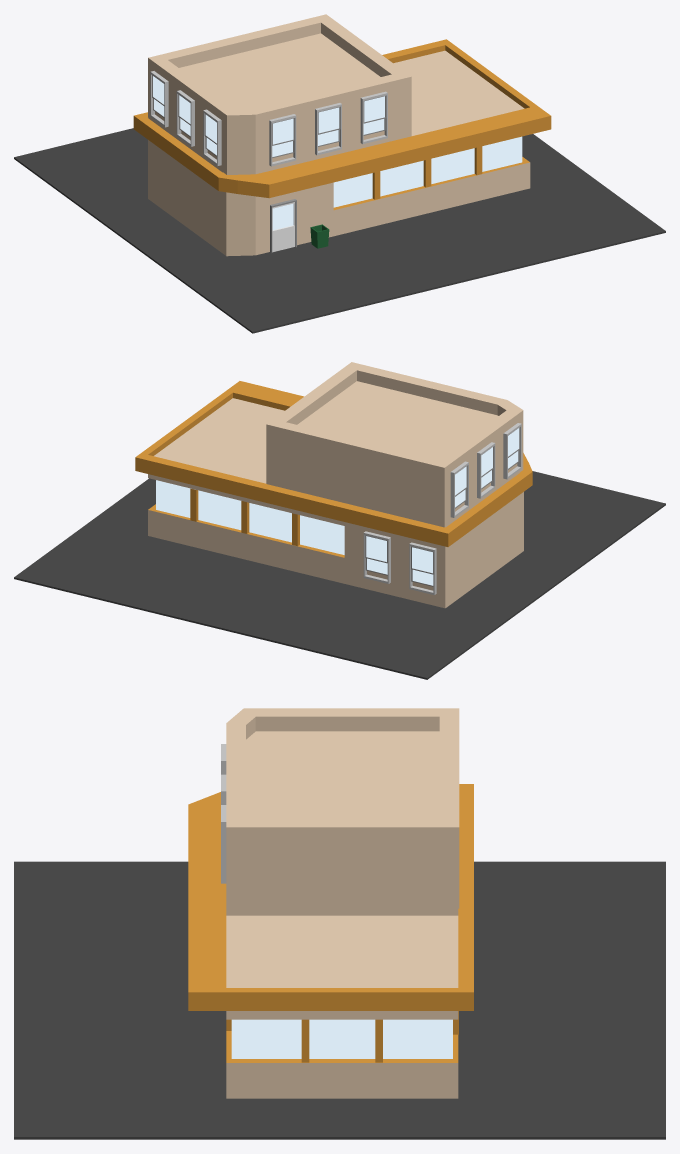
File: gedung5.glb
The picture shows the model from 3 angles, top to bottom: view 1: azimuth 30°, elevation 25°; view 2: azimuth 150°, elevation 25°; view 3: azimuth 270°, elevation 25°; orthographic projection. The views are drawn at different scales.
Parts seen in each view (by area): view 1: Plane.006, Plane, Cube, Plane.001, Plane.002, Plane.003, Plane.005; view 2: Plane.006, Cube, Plane, Plane.001, Plane.003, Plane.004; view 3: Plane.006, Cube, Plane, Plane.001, Plane.002.
Part boxes in pixels (x1,y1,x2,y2): Plane.006: [14, 128, 665, 333]; Plane: [148, 50, 530, 256]; Cube: [148, 14, 411, 174]; Plane.001: [133, 39, 551, 198]; Plane.002: [269, 91, 387, 166]; Plane.003: [150, 71, 221, 165]; Plane.005: [270, 199, 296, 253]; Plane.006: [14, 471, 665, 679]; Cube: [266, 362, 523, 527]; Plane: [148, 398, 523, 608]; Plane.001: [135, 381, 532, 546]; Plane.003: [450, 423, 521, 517]; Plane.004: [363, 531, 436, 595]; Plane.006: [14, 861, 665, 1139]; Cube: [226, 708, 459, 915]; Plane: [226, 915, 458, 1098]; Plane.001: [188, 784, 473, 1010]; Plane.002: [221, 744, 226, 883].
Bounding box in the file's own units: 15.41 × 5.07 × 15.41.
